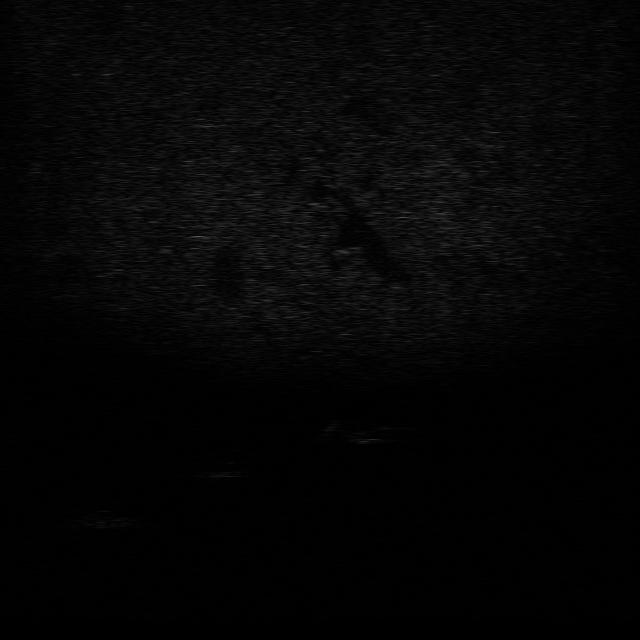ball: (199, 459, 249, 482)
circle cage: (56, 505, 135, 531)
human body: (311, 417, 415, 447)
